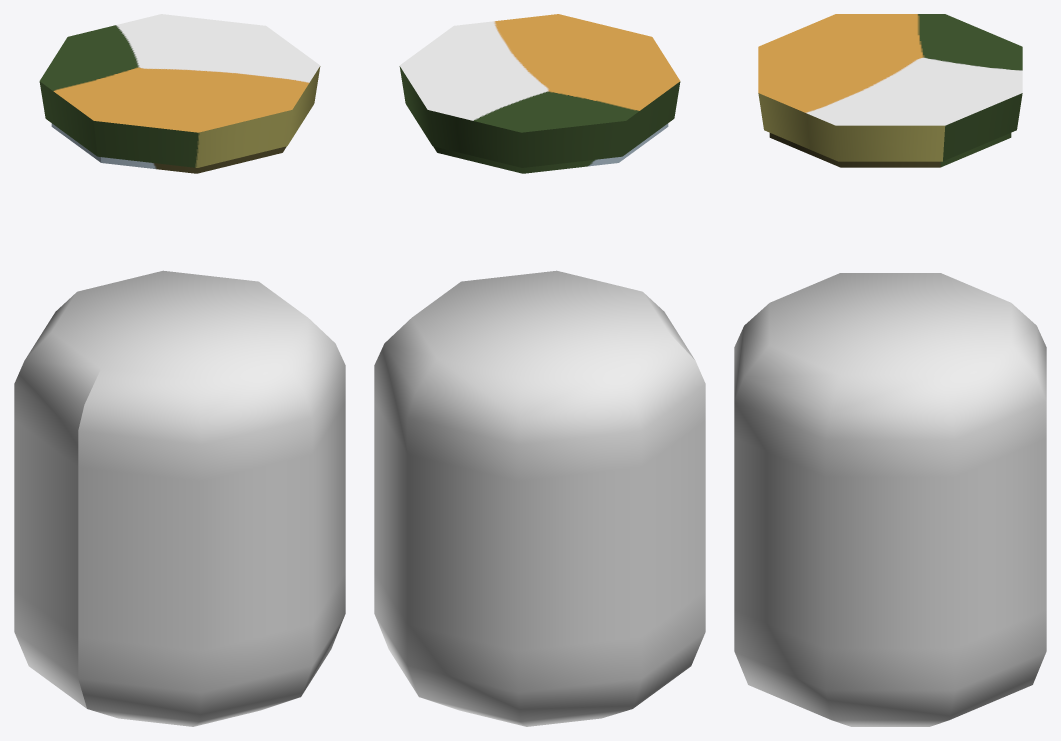
Rendered from BloodJarTest.fbx.
The picture shows the model from 3 angles, left to right: view 1: azimuth 30°, elevation 25°; view 2: azimuth 150°, elevation 25°; view 3: azimuth 270°, elevation 25°; orthographic projection.
Visible parts, largest first — view 1: MossJar.002, MossJar.001; view 2: MossJar.002, MossJar.001; view 3: MossJar.002, MossJar.001.
Part boxes in pixels (box(x1,y1,x2,y2)): MossJar.002: box(14, 270, 345, 726); MossJar.001: box(39, 14, 320, 173); MossJar.002: box(374, 270, 705, 726); MossJar.001: box(399, 14, 680, 173); MossJar.002: box(734, 273, 1046, 726); MossJar.001: box(758, 14, 1022, 167).
Bounding box in the file's own units: 231 × 505 × 231.
